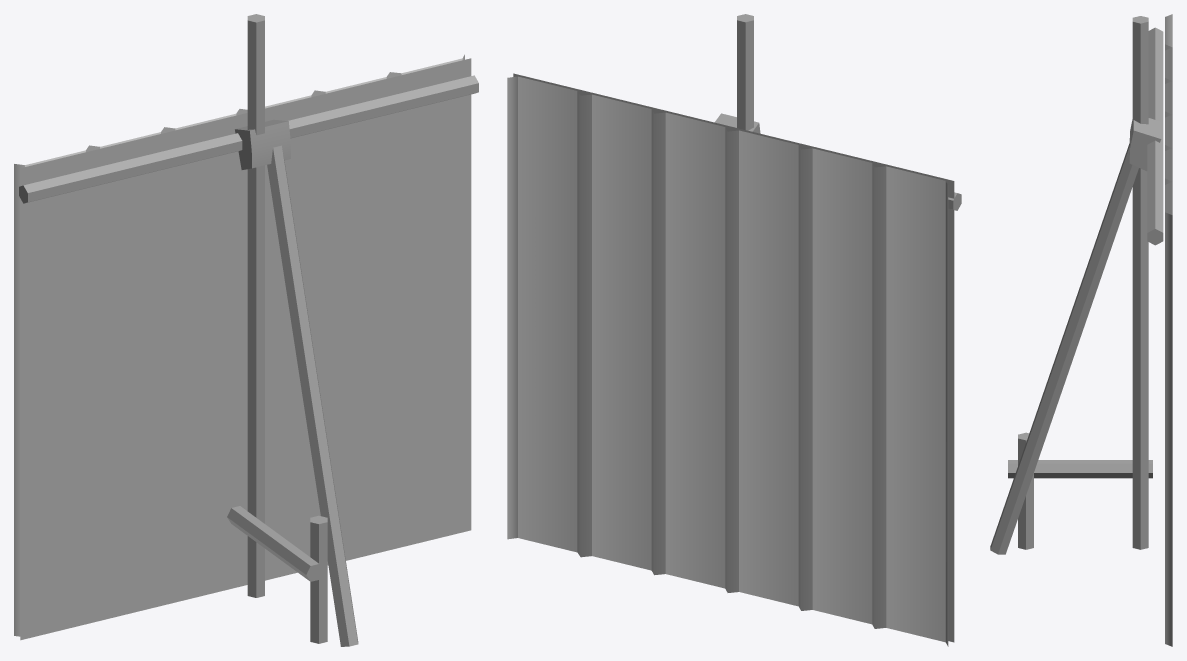
Rendered from fensu.obj.
3 renders of one model, left to right at view 1: azimuth 30°, elevation 25°; view 2: azimuth 150°, elevation 25°; view 3: azimuth 270°, elevation 25°, orthographic. The views are drawn at different scales.
Visible parts, largest first — view 1: pPlane2, pCylinder2, pCylinder3, pCylinder1, pPlane1, pCylinder5, pCylinder4, pCube1; view 2: pPlane1, pPlane2, pCylinder2; view 3: pCylinder2, pCylinder3, pPlane1, pCylinder1, pCylinder5, pCube1, pCylinder4.
Part boxes in pixels (left/top/right/bottom): pPlane2: left=20, top=58, right=471, bottom=640; pCylinder2: left=247, top=14, right=264, bottom=597; pCylinder3: left=267, top=145, right=358, bottom=646; pCylinder1: left=19, top=75, right=478, bottom=203; pPlane1: left=14, top=54, right=464, bottom=636; pCylinder5: left=227, top=506, right=323, bottom=581; pCylinder4: left=310, top=515, right=327, bottom=643; pCube1: left=234, top=119, right=290, bottom=169; pPlane1: left=507, top=76, right=948, bottom=646; pPlane2: left=513, top=73, right=954, bottom=642; pCylinder2: left=737, top=14, right=753, bottom=130; pCylinder2: left=1132, top=16, right=1148, bottom=549; pCylinder3: left=990, top=142, right=1138, bottom=554; pPlane1: left=1165, top=14, right=1172, bottom=646; pCylinder1: left=1147, top=27, right=1163, bottom=245; pCylinder5: left=1008, top=460, right=1152, bottom=478; pCube1: left=1129, top=118, right=1161, bottom=171; pCylinder4: left=1018, top=432, right=1033, bottom=549.
Size of the model in its own units: 1 by 1.22 by 0.3827.
2 materials, 2 textured.
